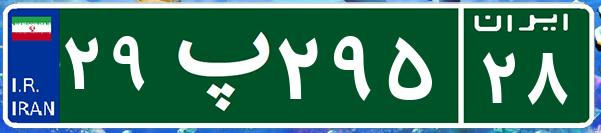2: (273, 28, 330, 110), (57, 26, 110, 107), (475, 38, 525, 113)
5: (385, 28, 445, 110)
8: (525, 38, 570, 115)
9: (330, 28, 385, 110), (110, 28, 158, 105)
پ: (158, 15, 273, 115)
